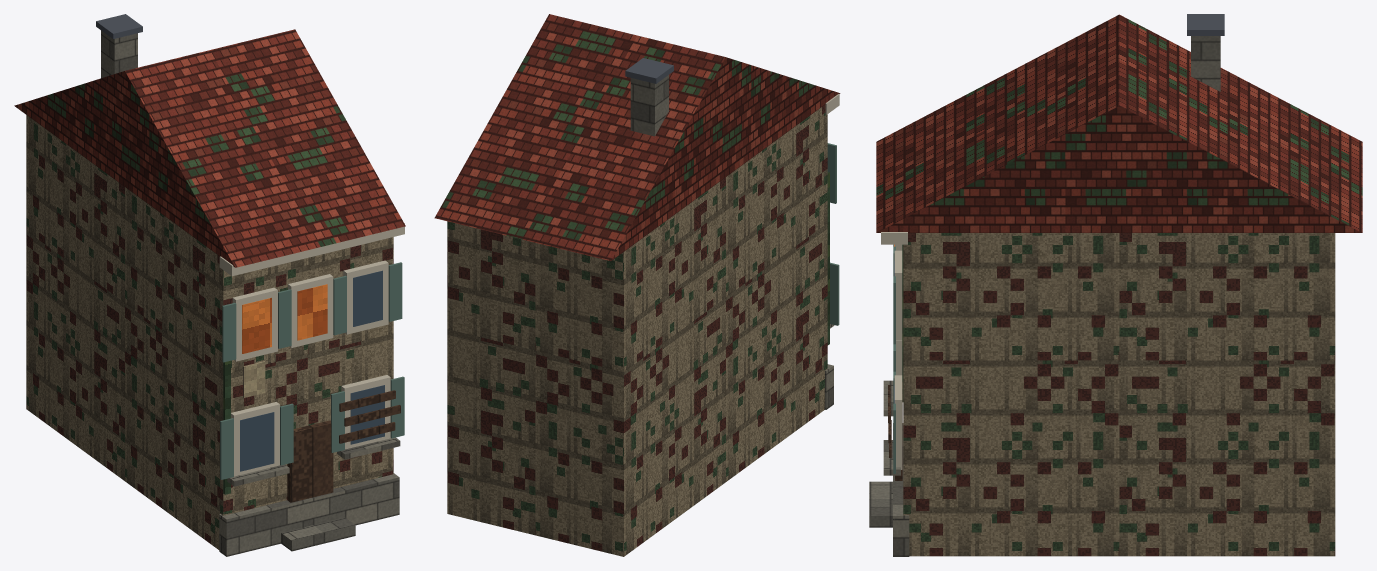
The model's file is ENV_C_Facade_6.fbx.
3 views of the same model, side by side, from view 1: azimuth 30°, elevation 25°; view 2: azimuth 150°, elevation 25°; view 3: azimuth 270°, elevation 25° (orthographic). The views are drawn at different scales.
Parts seen in each view (by area): view 1: ENV_C_Facade_6; view 2: ENV_C_Facade_6; view 3: ENV_C_Facade_6.
Part boxes in pixels (left/top/right/bottom): ENV_C_Facade_6: left=14, top=14, right=405, bottom=556; ENV_C_Facade_6: left=434, top=14, right=840, bottom=556; ENV_C_Facade_6: left=869, top=14, right=1362, bottom=556.
Size of the model in its own units: 430 by 942 by 913.
12 materials, 8 textured.
